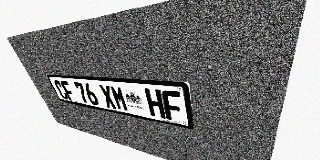6: (82, 83, 100, 106)
7: (73, 82, 91, 104)
C: (53, 80, 69, 100)
F: (161, 90, 183, 122), (60, 81, 76, 101)
H: (144, 88, 166, 119)
M: (109, 85, 129, 112)
X: (98, 84, 117, 109)
